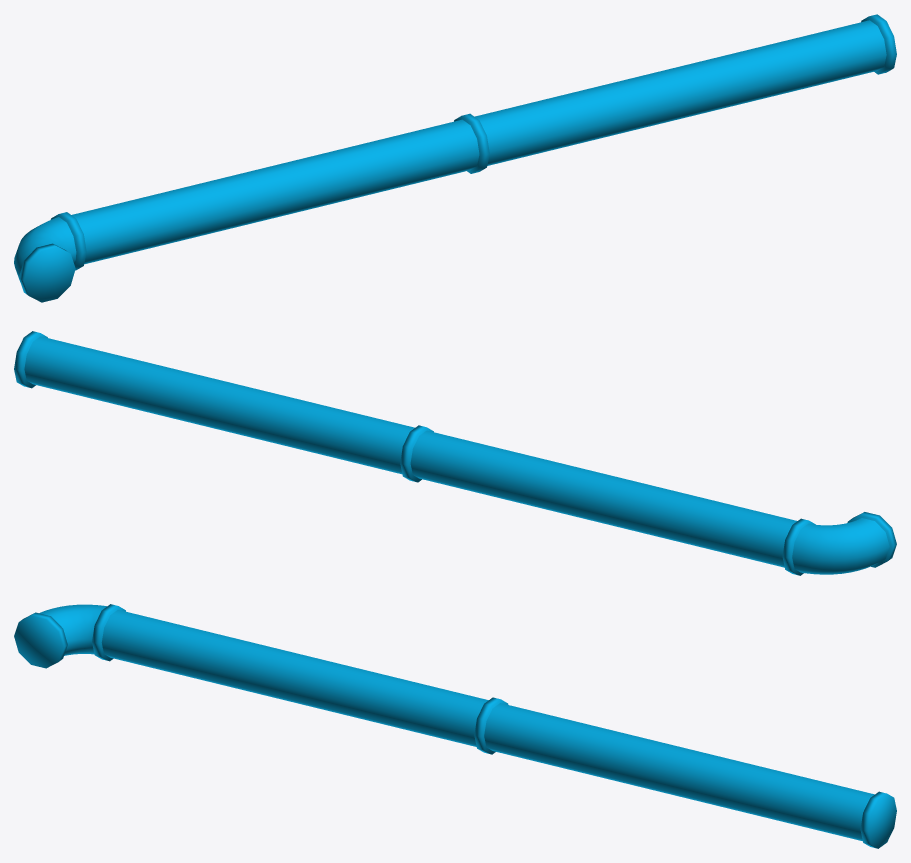
The model's file is Factory_Pipe_02_Lod0.fbx.
The picture shows the model from 3 angles, top to bottom: view 1: azimuth 30°, elevation 25°; view 2: azimuth 150°, elevation 25°; view 3: azimuth 330°, elevation 25°; orthographic projection. The views are drawn at different scales.
Parts seen in each view (by area): view 1: Factory_Pipe_02_Lod0; view 2: Factory_Pipe_02_Lod0; view 3: Factory_Pipe_02_Lod0.
Boxes of the visible parts, left/top/right/bottom form: Factory_Pipe_02_Lod0: left=14, top=14, right=896, bottom=302; Factory_Pipe_02_Lod0: left=14, top=331, right=896, bottom=575; Factory_Pipe_02_Lod0: left=14, top=604, right=896, bottom=848.
Size of the model in its own units: 691 by 38.53 by 59.61.
